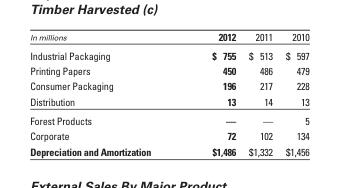table: (29, 29, 308, 157)
table column: (29, 29, 180, 157), (180, 29, 241, 157), (241, 29, 278, 157), (278, 29, 308, 157)
table column header: (29, 29, 308, 45)
table row: (29, 45, 308, 62), (29, 93, 308, 110), (29, 110, 308, 127), (29, 29, 308, 45), (29, 77, 308, 93), (29, 127, 308, 143), (29, 62, 308, 77), (29, 143, 308, 157)
